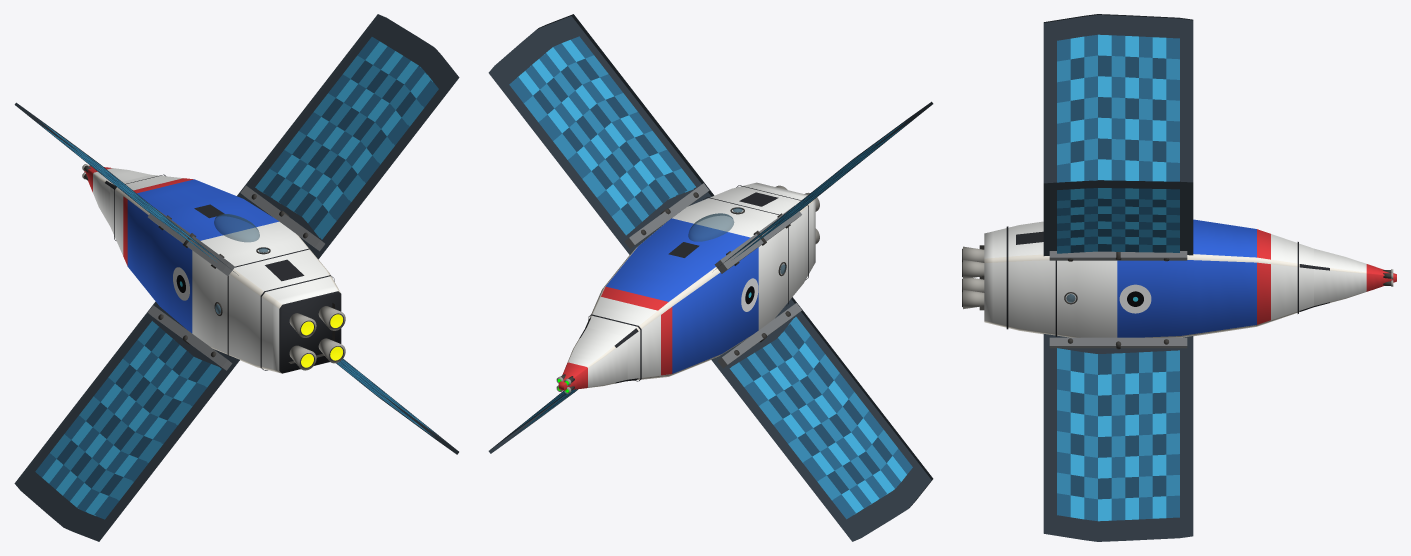
File: Ship_Crosspanel_14.glb
3 renders of one model, left to right at view 1: azimuth 30°, elevation 25°; view 2: azimuth 150°, elevation 25°; view 3: azimuth 270°, elevation 25°, orthographic. The views are drawn at different scales.
Parts seen in each view (by area): view 1: Fuselage_SquareBody, SolarPanelWing_TopRightRidge_RectangularPhotovoltaicGrid, SolarPanelWing_LowerLeftRidge_RectangularPhotovoltaicGrid, SolarPanelWing_TopLeftRidge_RectangularPhotovoltaicGrid, Nose_SquareTaperedForwardSection, SolarPanelWing_LowerRightRidge_RectangularPhotovoltaicGrid, SolarPanelWing_TopLeftRidge_RootHingeClamp, SolarPanelWing_LowerLeftRidge_RootHingeClamp, SolarPanelWing_TopRightRidge_RootHingeClamp, Canopy_DorsalLowSquareBubble, EngineEmitter; view 2: Fuselage_SquareBody, SolarPanelWing_TopRightRidge_RectangularPhotovoltaicGrid, SolarPanelWing_LowerLeftRidge_RectangularPhotovoltaicGrid, Nose_SquareTaperedForwardSection, SolarPanelWing_TopLeftRidge_RectangularPhotovoltaicGrid, SolarPanelWing_TopLeftRidge_RootHingeClamp, SolarPanelWing_TopRightRidge_RootHingeClamp, SolarPanelWing_LowerLeftRidge_RootHingeClamp, Canopy_DorsalLowSquareBubble, SolarPanelWing_LowerRightRidge_RectangularPhotovoltaicGrid; view 3: SolarPanelWing_LowerRightRidge_RectangularPhotovoltaicGrid, Fuselage_SquareBody, SolarPanelWing_TopLeftRidge_RectangularPhotovoltaicGrid, SolarPanelWing_TopRightRidge_RectangularPhotovoltaicGrid, Nose_SquareTaperedForwardSection, SolarPanelWing_LowerRightRidge_RootHingeClamp, SolarPanelWing_TopRightRidge_RootHingeClamp, HullFlatSideDecal_Primary_StarboardFlatSide_Disc_Disc_WhiteO.
Part boxes in pixels (x1,y1,x2,y2): Fuselage_SquareBody: (110,174,341,373); SolarPanelWing_TopRightRidge_RectangularPhotovoltaicGrid: (237,14,459,259); SolarPanelWing_LowerLeftRidge_RectangularPhotovoltaicGrid: (14,301,239,541); SolarPanelWing_TopLeftRidge_RectangularPhotovoltaicGrid: (14,102,238,275); Nose_SquareTaperedForwardSection: (84,165,150,226); SolarPanelWing_LowerRightRidge_RectangularPhotovoltaicGrid: (336,359,458,454); SolarPanelWing_TopLeftRidge_RootHingeClamp: (148,208,234,275); SolarPanelWing_LowerLeftRidge_RootHingeClamp: (147,305,232,370); SolarPanelWing_TopRightRidge_RootHingeClamp: (240,185,324,251); Canopy_DorsalLowSquareBubble: (214,214,259,242); EngineEmitter: (301,314,342,367); Fuselage_SquareBody: (585,182,815,381); SolarPanelWing_TopRightRidge_RectangularPhotovoltaicGrid: (488,14,714,254); SolarPanelWing_LowerLeftRidge_RectangularPhotovoltaicGrid: (711,297,933,541); Nose_SquareTaperedForwardSection: (558,327,627,390); SolarPanelWing_TopLeftRidge_RectangularPhotovoltaicGrid: (715,101,933,269); SolarPanelWing_TopLeftRidge_RootHingeClamp: (714,205,801,273); SolarPanelWing_TopRightRidge_RootHingeClamp: (624,183,709,248); SolarPanelWing_LowerLeftRidge_RootHingeClamp: (717,303,801,368); Canopy_DorsalLowSquareBubble: (688,213,734,241); SolarPanelWing_LowerRightRidge_RectangularPhotovoltaicGrid: (488,389,578,453); SolarPanelWing_LowerRightRidge_RectangularPhotovoltaicGrid: (1043,334,1193,541); Fuselage_SquareBody: (984,219,1313,337); SolarPanelWing_TopLeftRidge_RectangularPhotovoltaicGrid: (1043,14,1193,183); SolarPanelWing_TopRightRidge_RectangularPhotovoltaicGrid: (1043,180,1193,255); Nose_SquareTaperedForwardSection: (1314,248,1396,306); SolarPanelWing_LowerRightRidge_RootHingeClamp: (1049,337,1187,348); SolarPanelWing_TopRightRidge_RootHingeClamp: (1049,251,1187,260); HullFlatSideDecal_Primary_StarboardFlatSide_Disc_Disc_WhiteO: (1119,284,1151,313).
Bounding box in the file's own units: 6.76 × 6.77 × 7.38.
